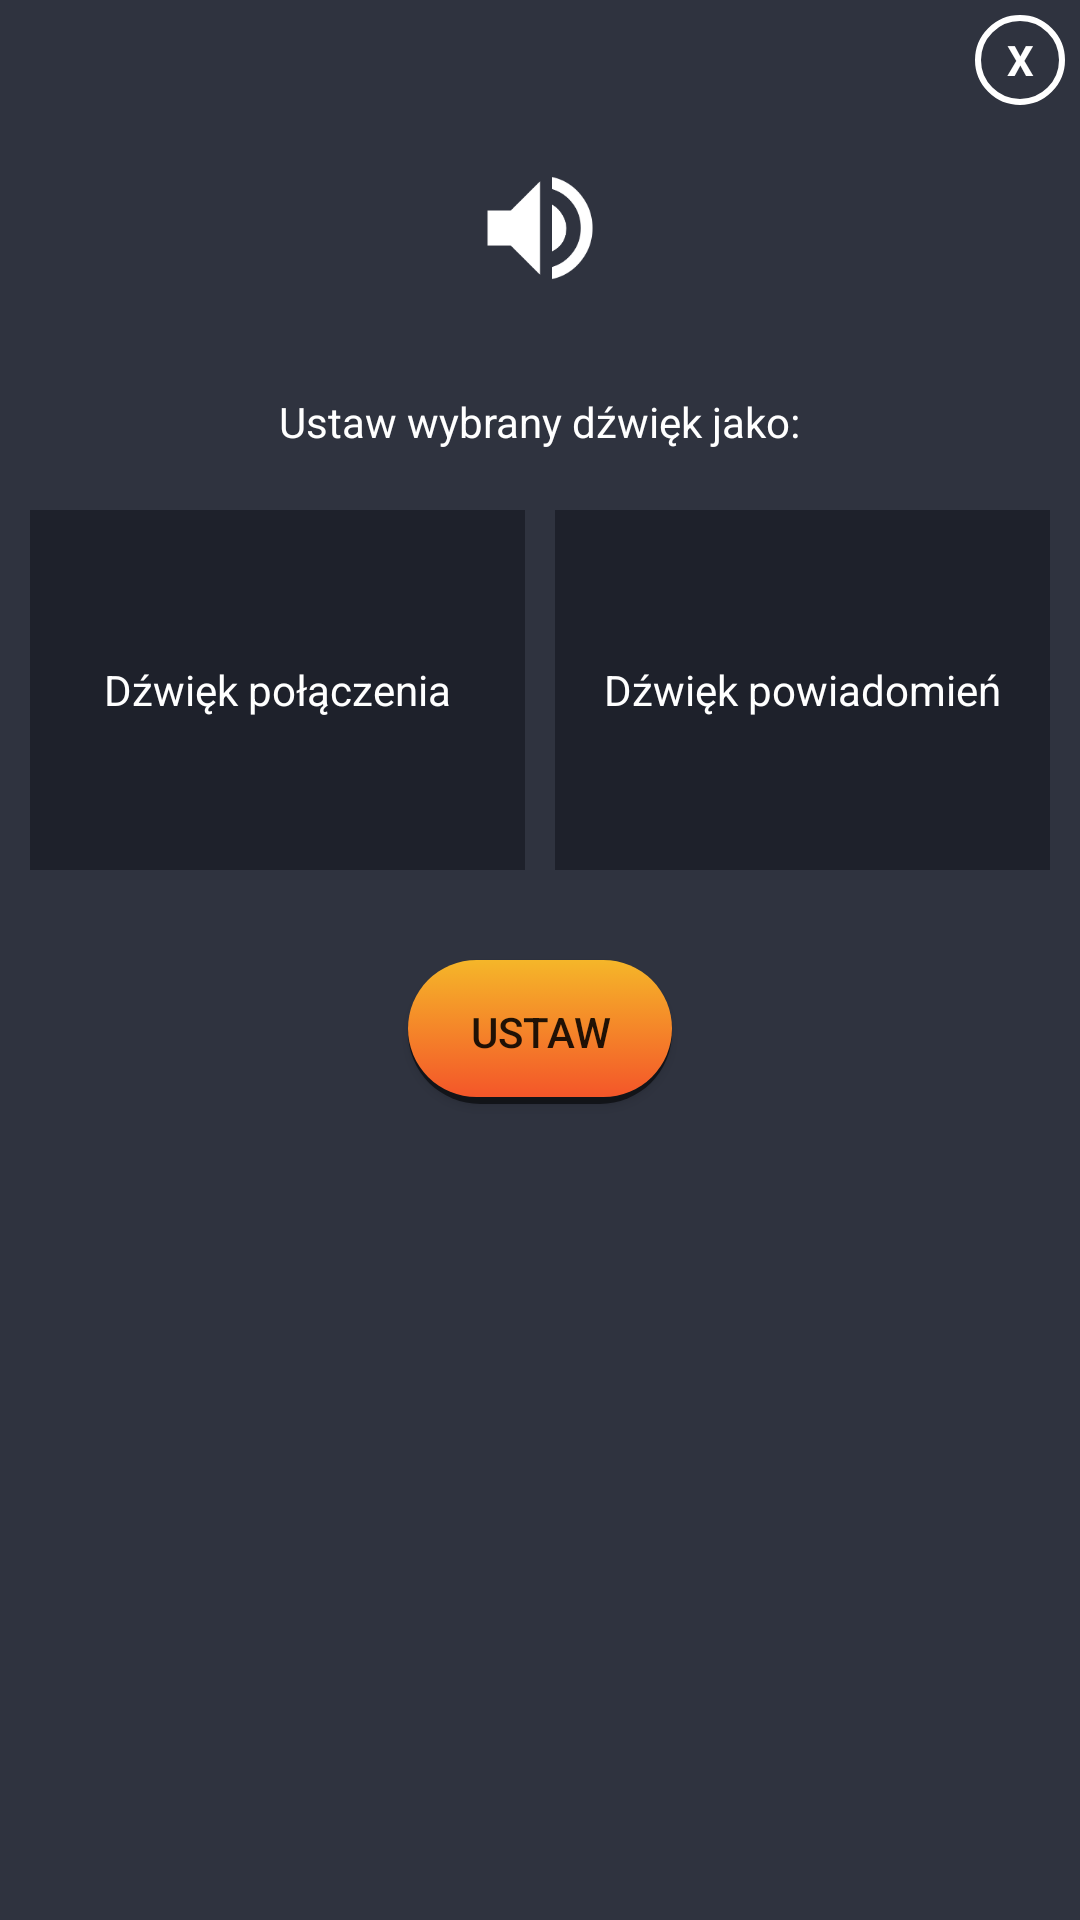

Screen size 1080*1920. Icon name, then its center in pixels as (x,y):
volume up: (540,228)
